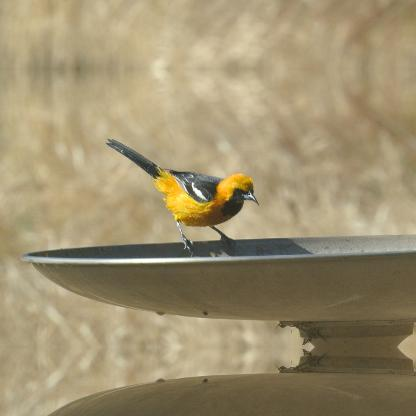Bird: (112, 147, 260, 245)
